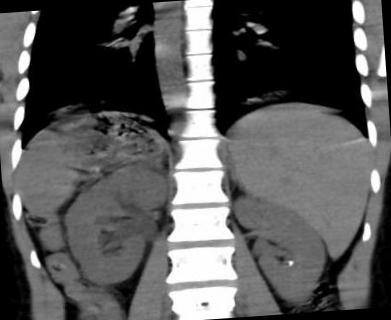Tas_Var: (284, 259, 296, 268)
